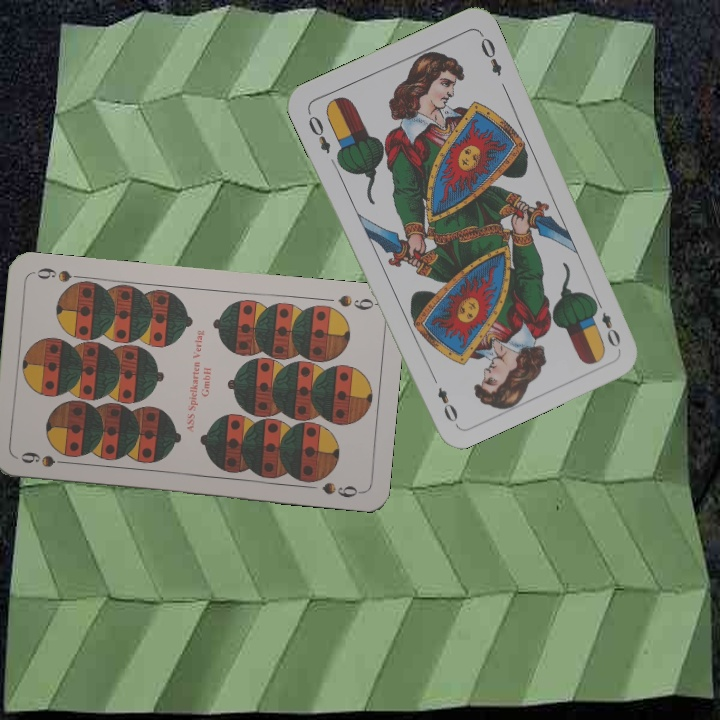EO: (590, 295, 623, 350), (303, 107, 333, 156)
S9: (17, 447, 75, 470), (334, 290, 381, 313)
